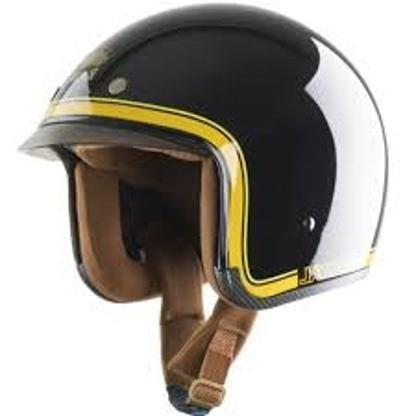not trash: (19, 2, 386, 416)
